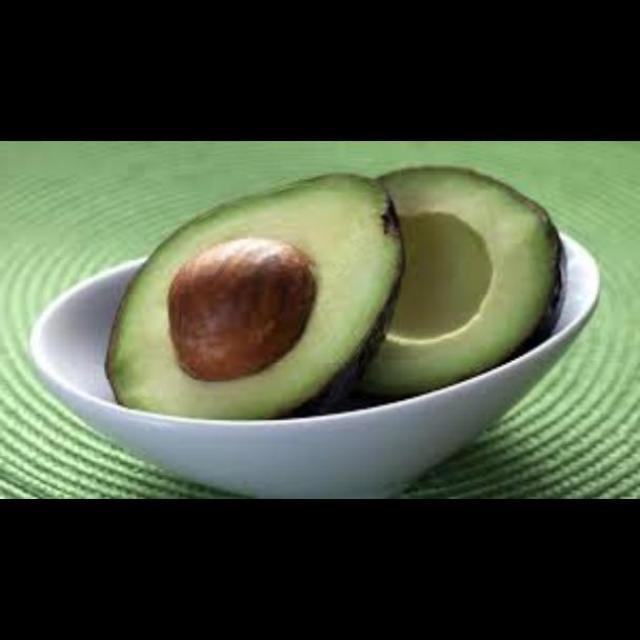Avocado: (89, 168, 410, 436), (340, 152, 566, 383)
